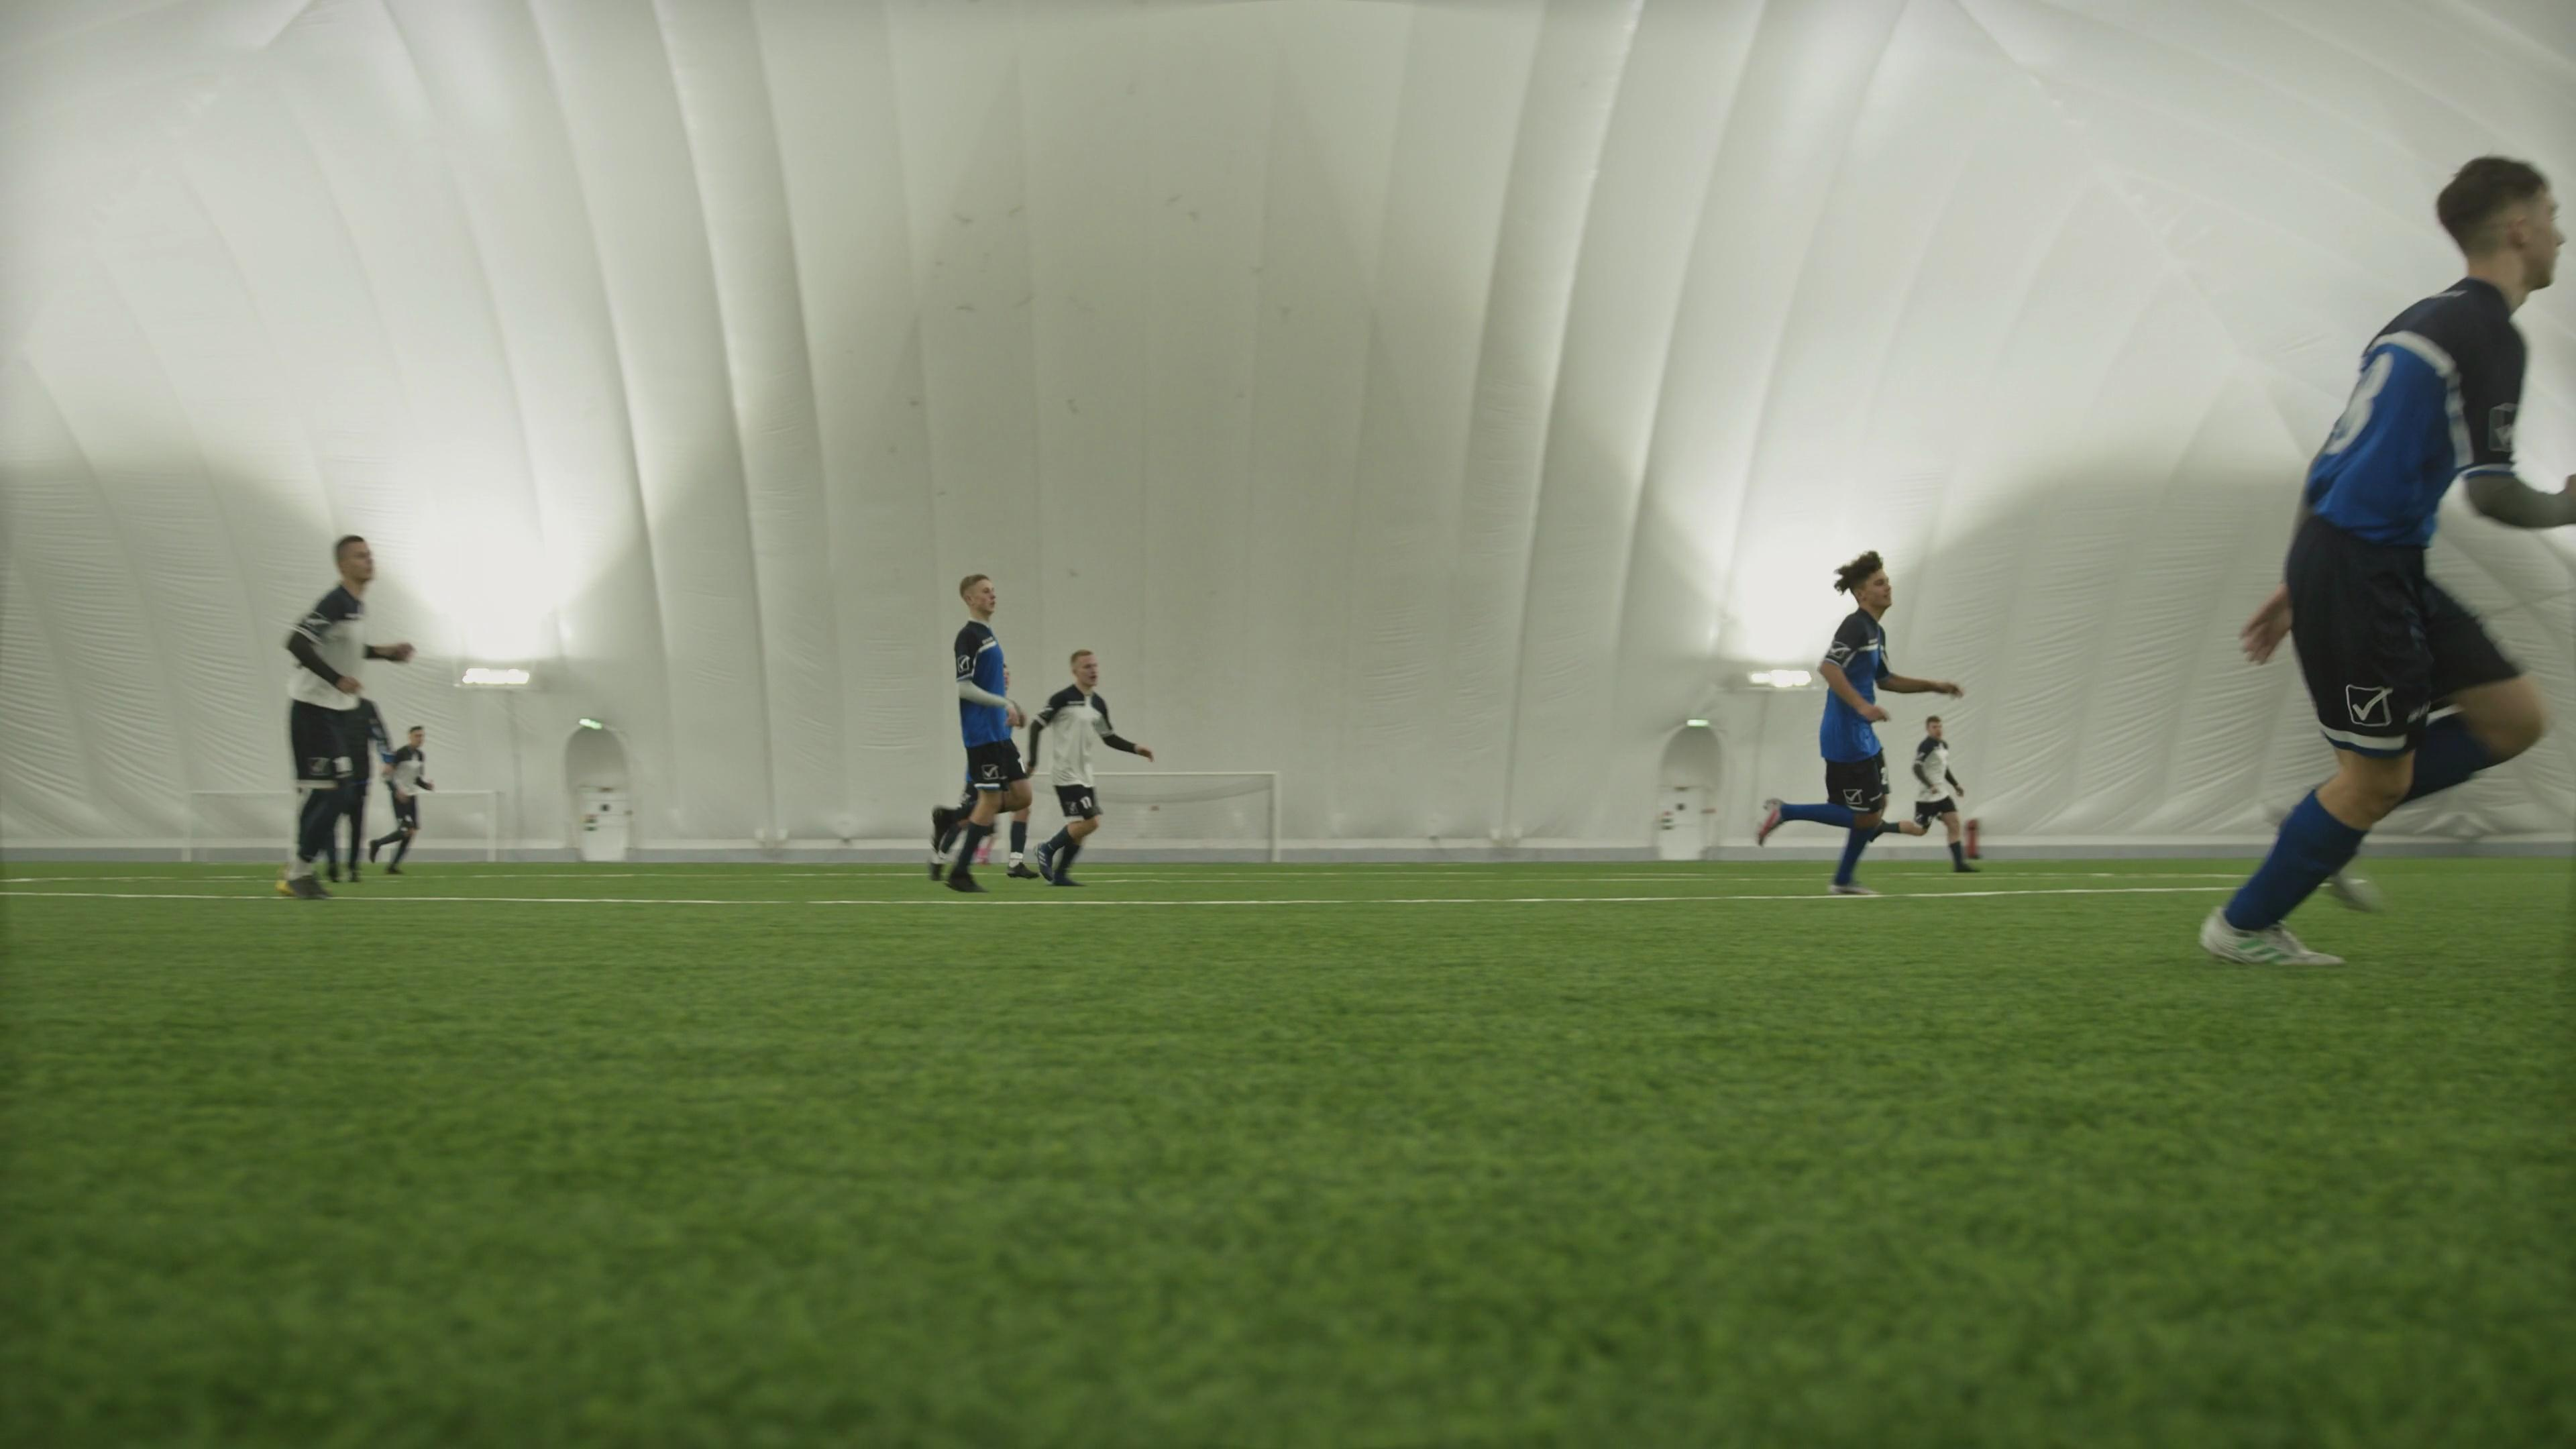team1: (2197, 152, 2574, 968), (1755, 554, 1964, 895), (929, 570, 1031, 892)
team2: (278, 533, 414, 899), (1019, 644, 1155, 890), (1911, 711, 1983, 876), (370, 725, 435, 879)
